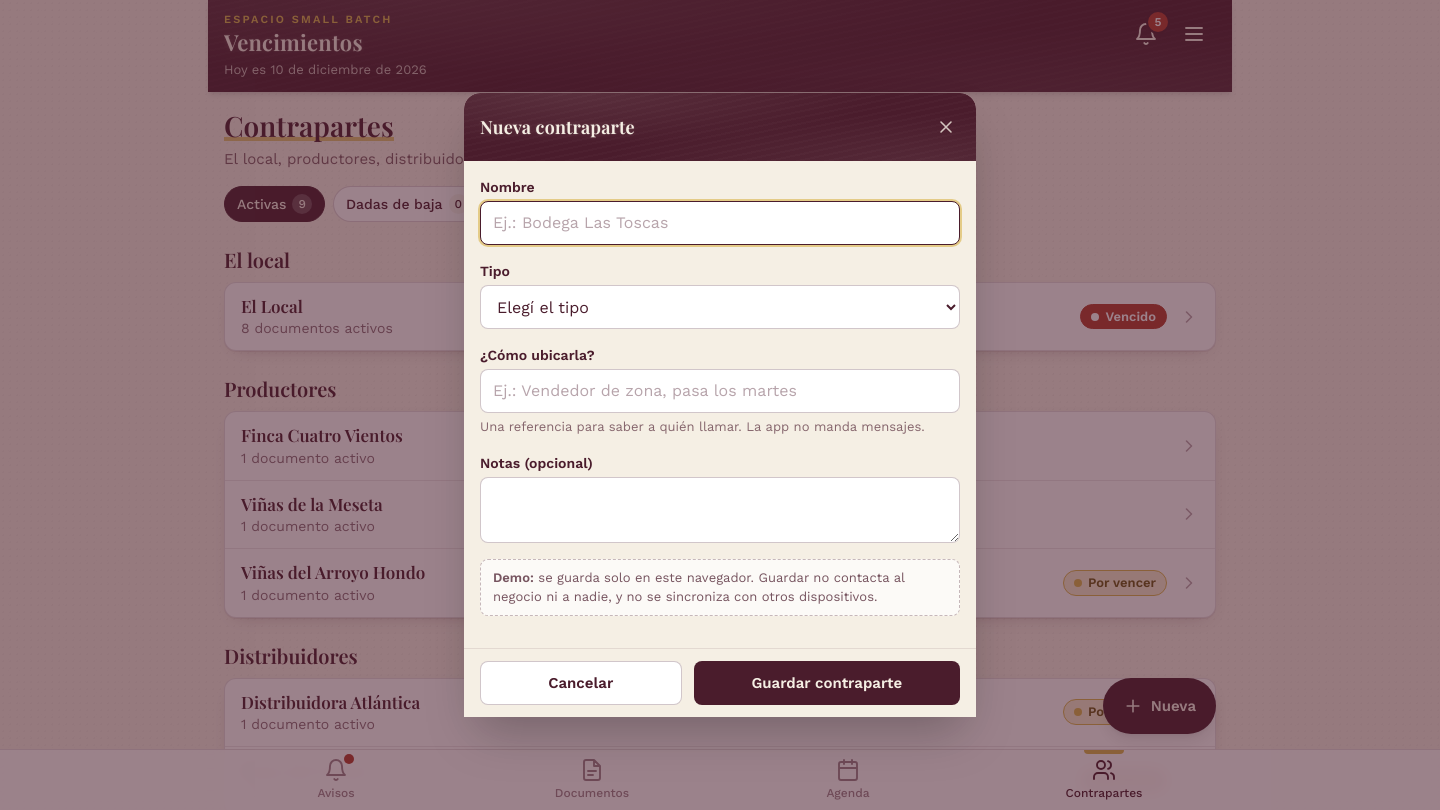
Scenario: prueba guiada: vigencia con fecha de referencia › si el guardado falla, no muestra éxito y conserva lo escrito
Type "Bodega Las Toscas" into the field labelled "Nombre" at (720, 223), box [480,201,960,245]
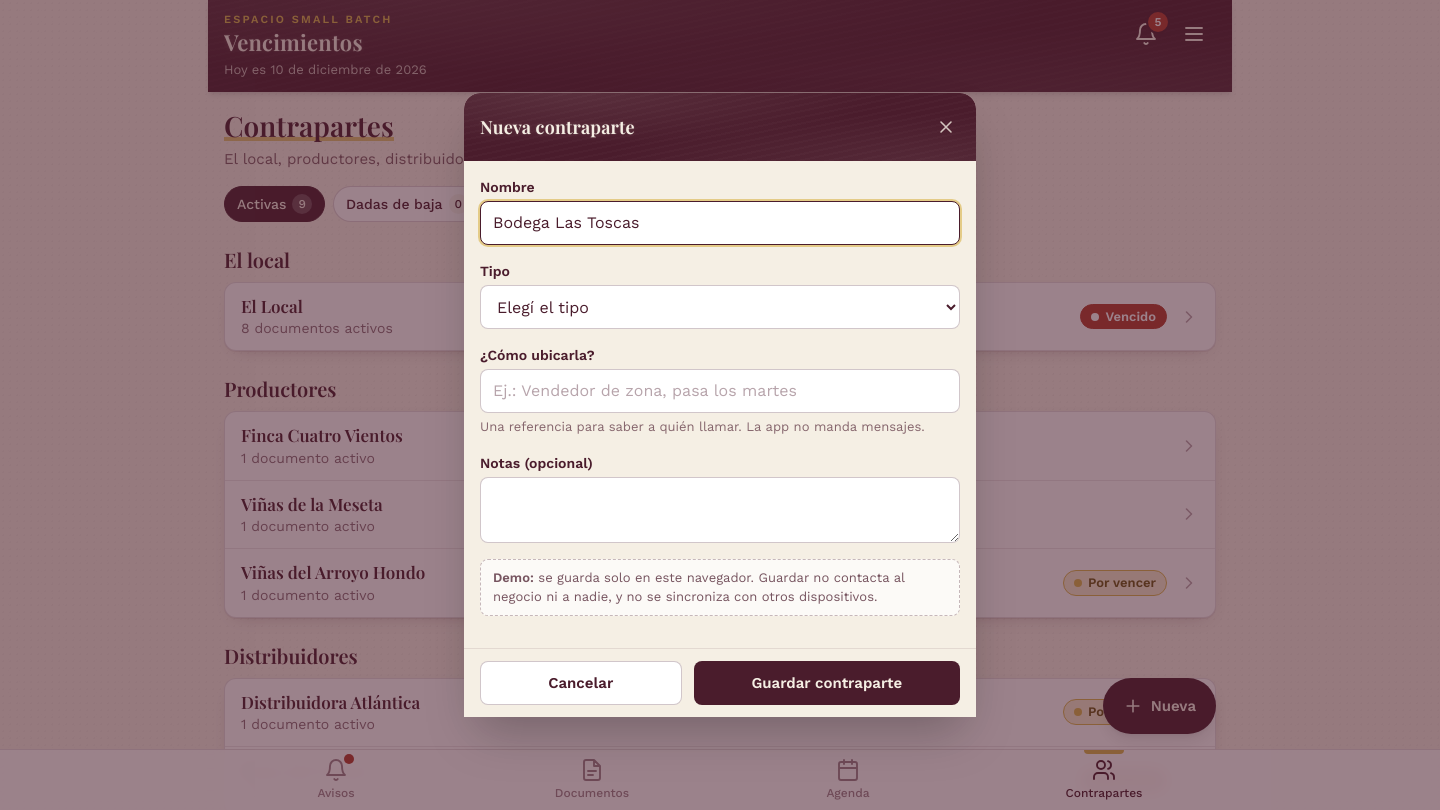
Select "Productor" in the dropdown labelled "Tipo" at (720, 307), box [480,285,960,329]
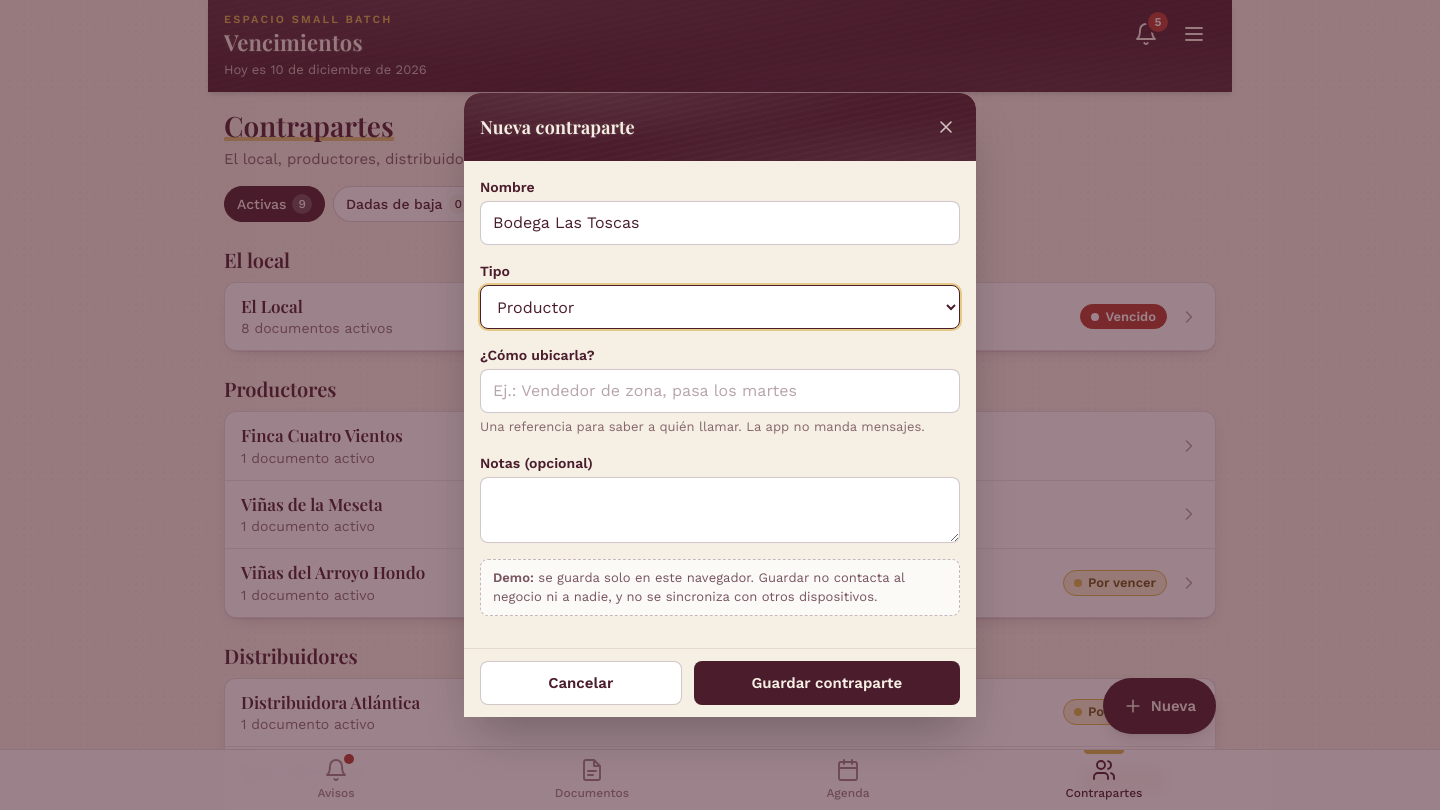
Click the button "Guardar contraparte" at (827, 683), box [694,661,960,705]
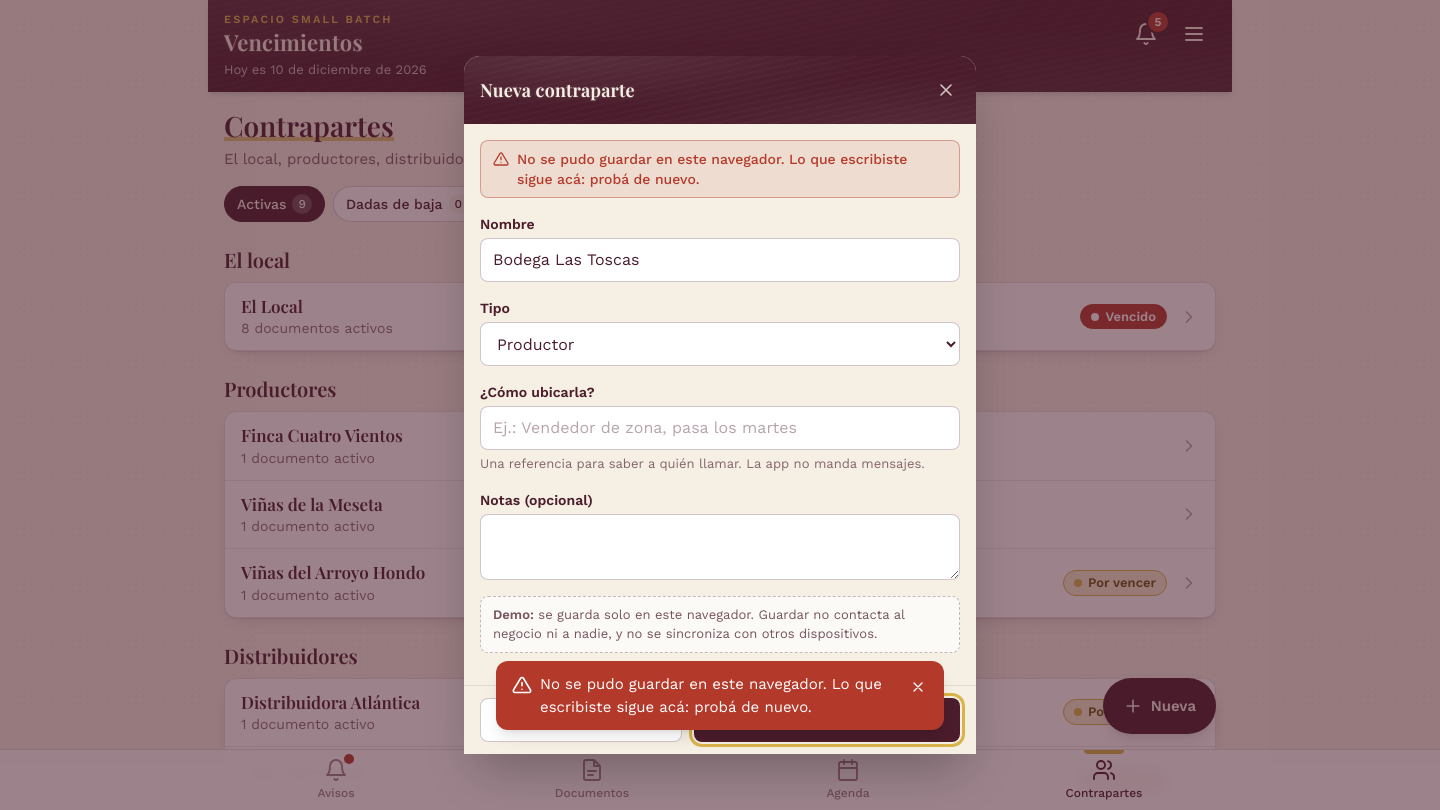
Expected: the dialog is shown, [464,56,976,754]
Expected: the text "No se pudo guardar" below "Nueva contraparte" is shown, [517,151,907,187]
